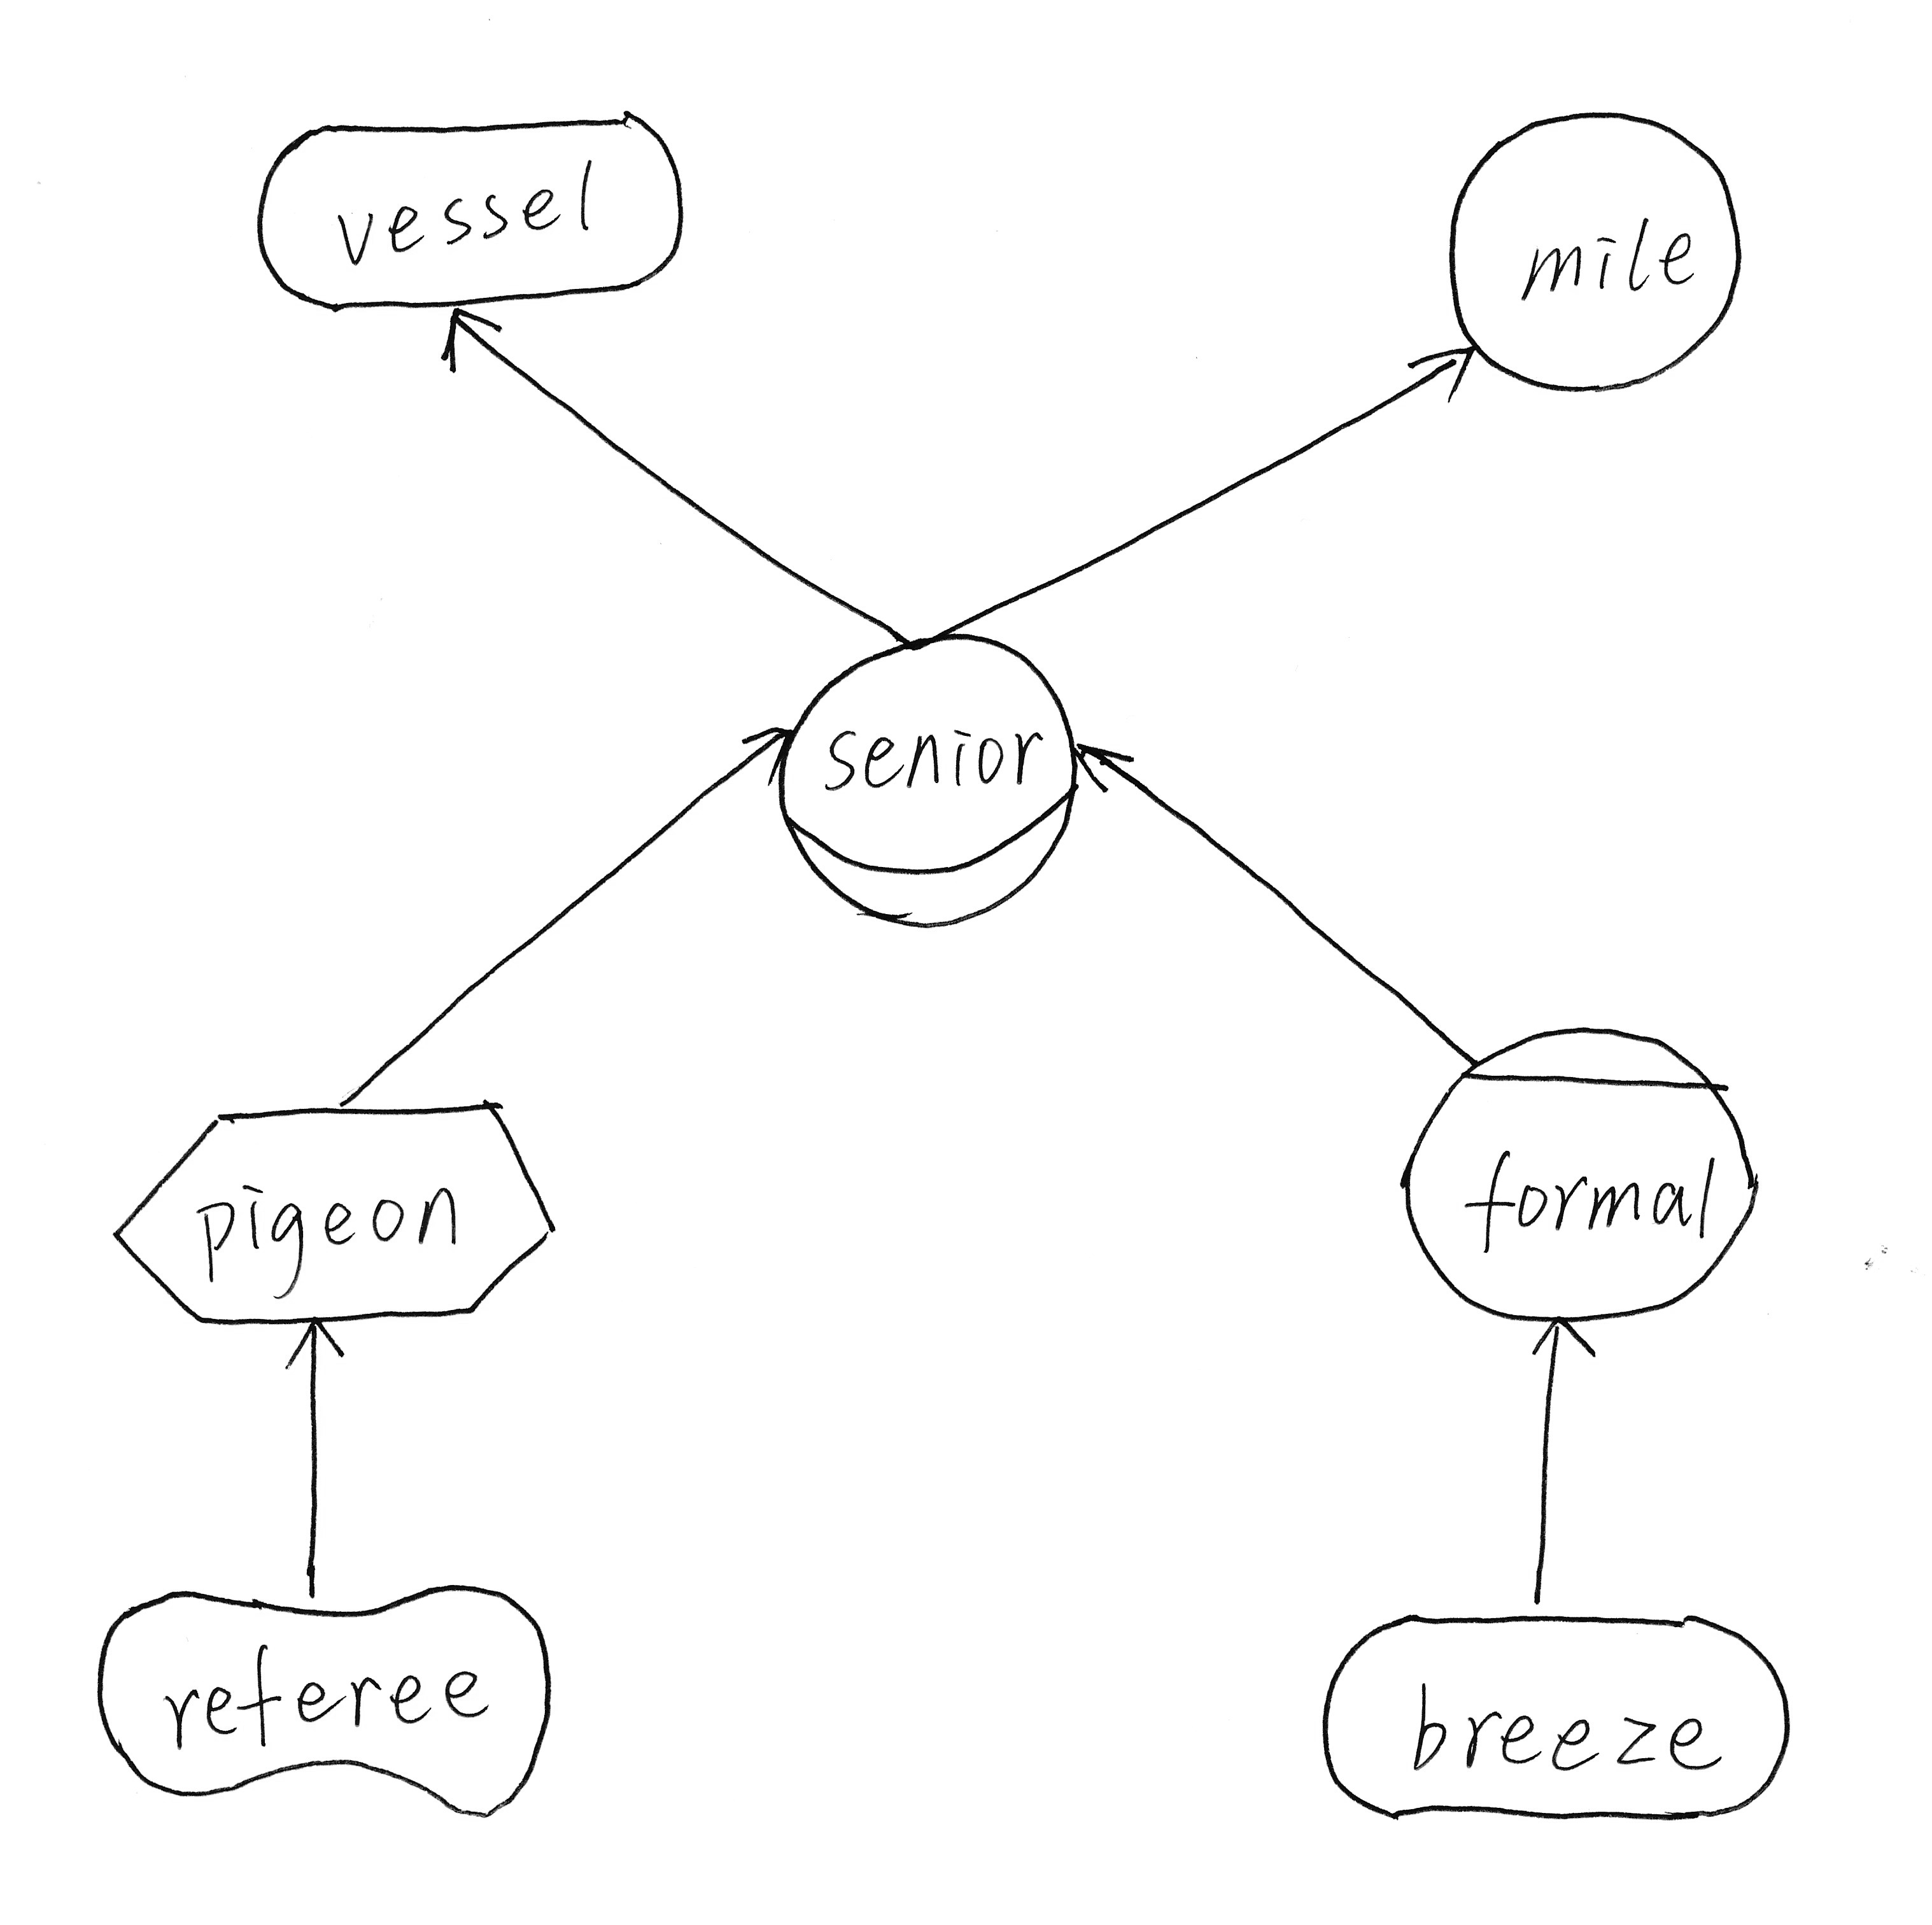actor: (1426, 88, 1765, 414)
agent: (1378, 1005, 1787, 1352)
arrow: (1045, 714, 1163, 820), (1400, 319, 1507, 427), (1505, 1294, 1616, 1384), (418, 289, 513, 391), (732, 691, 807, 809), (271, 1299, 368, 1384)
goal: (1306, 1585, 1823, 1847), (231, 88, 714, 333)
quality: (76, 1564, 573, 1842)
role: (758, 617, 1096, 954)
task: (88, 1077, 583, 1357)
